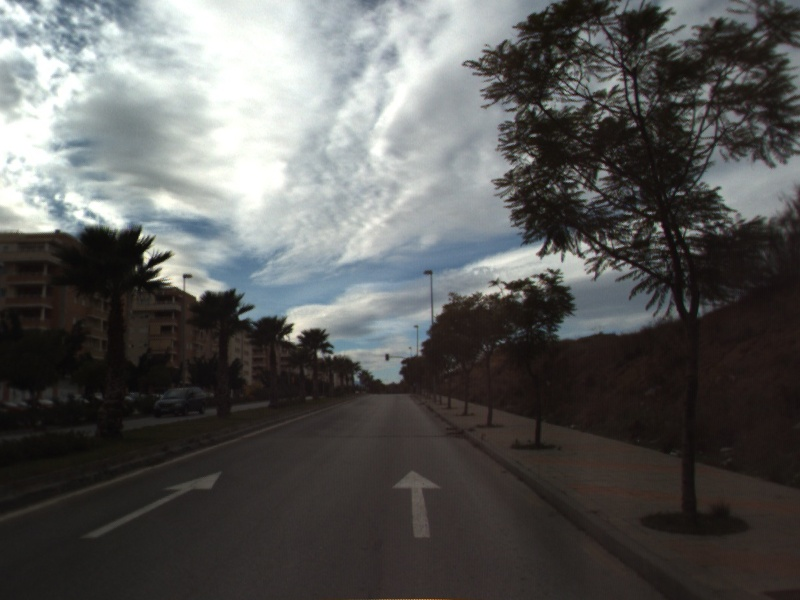STRAIGHT: (78, 469, 225, 540), (390, 468, 444, 540)
